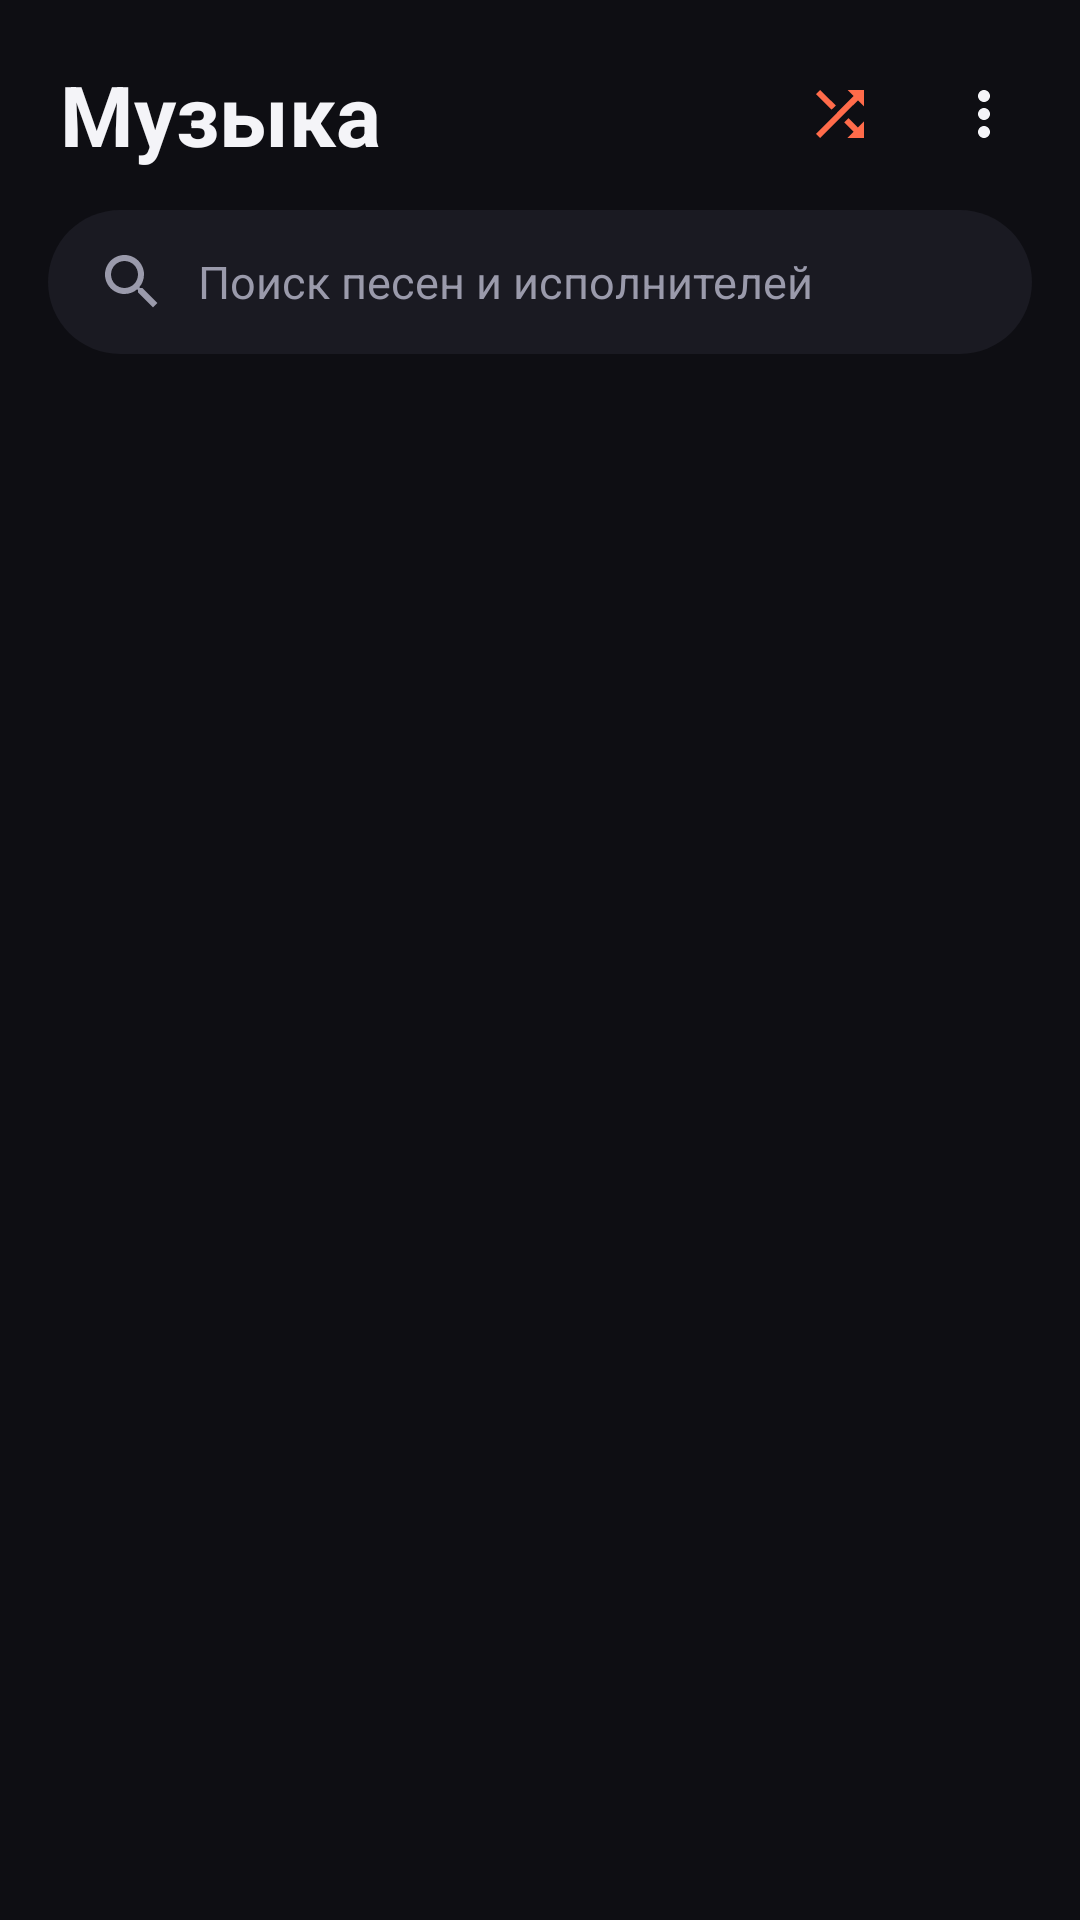

Icons on this 1080w x 1920h Android screen, each with the point to tap as [x,y]:
Вперемешку: [840,114]
Ещё: [984,114]
